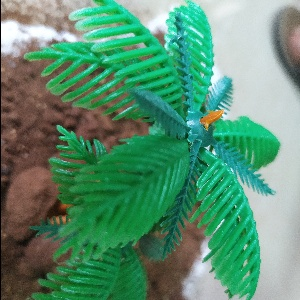plant: (41, 6, 259, 287)
